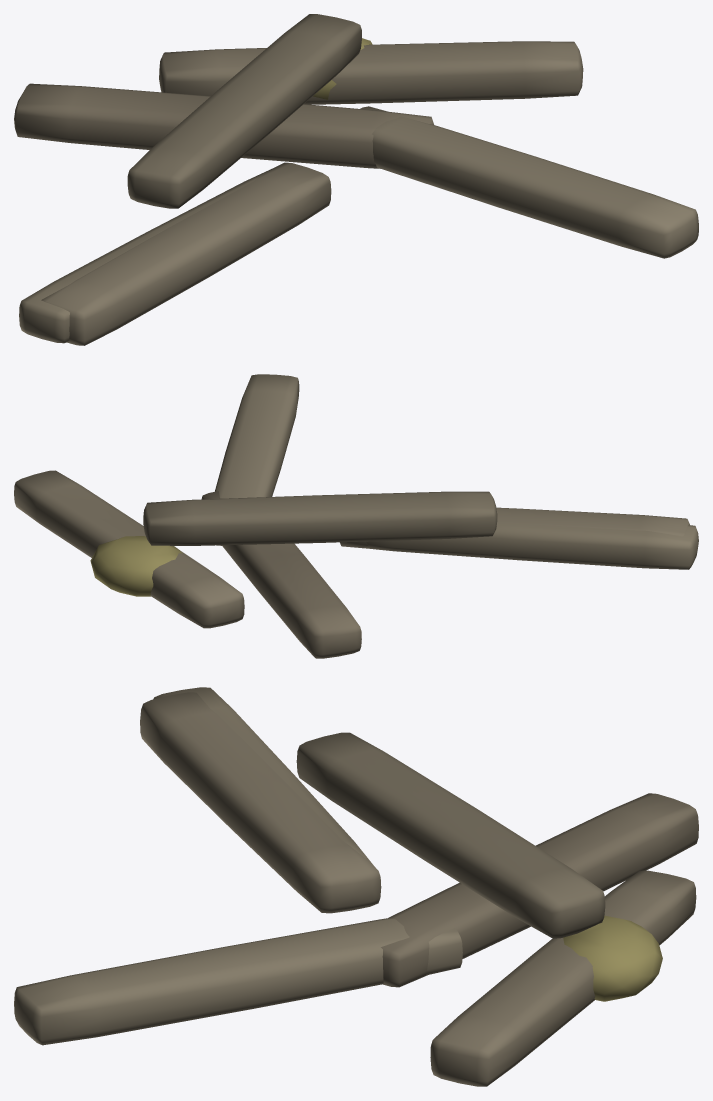
The model's file is sleeper_stack_b.glb.
3 renders of one model, top to bottom at view 1: azimuth 30°, elevation 25°; view 2: azimuth 150°, elevation 25°; view 3: azimuth 270°, elevation 25°, orthographic. The views are drawn at different scales.
Parts seen in each view (by area): view 1: Surface; view 2: Surface; view 3: Surface.
Part boxes in pixels (x1,y1,x2,y2): Surface: [14, 14, 698, 345]; Surface: [14, 374, 698, 658]; Surface: [14, 687, 698, 1086].
Size of the model in its own units: 2.98 by 0.3797 by 2.34.
